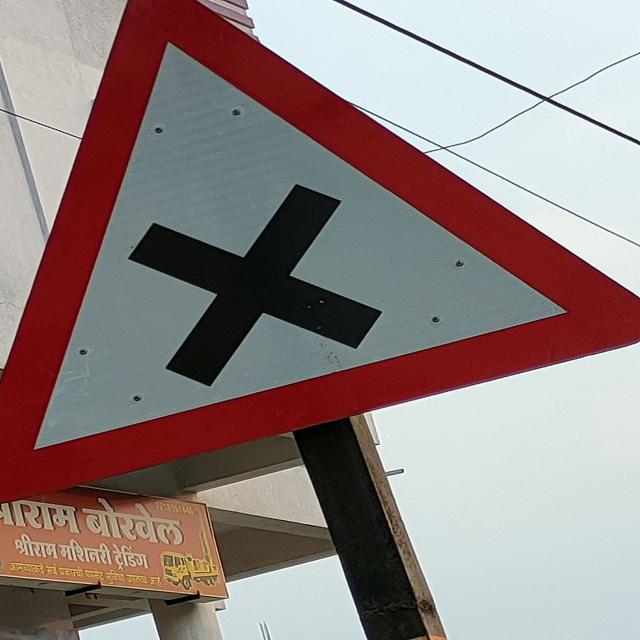cross_road: (4, 4, 640, 508)
